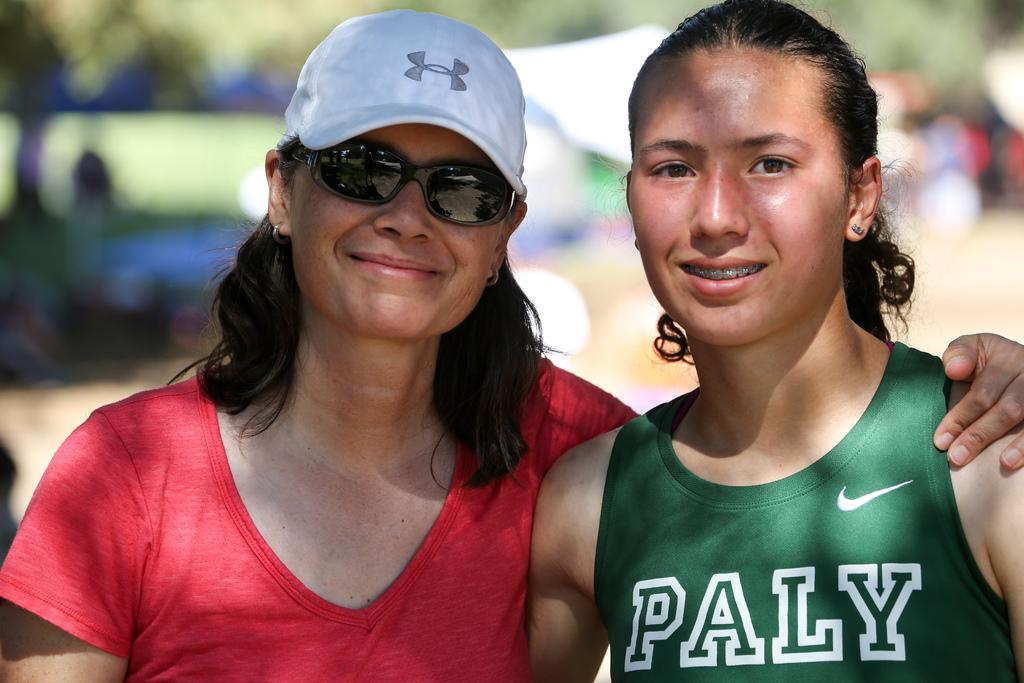Hat: (282, 6, 528, 195)
